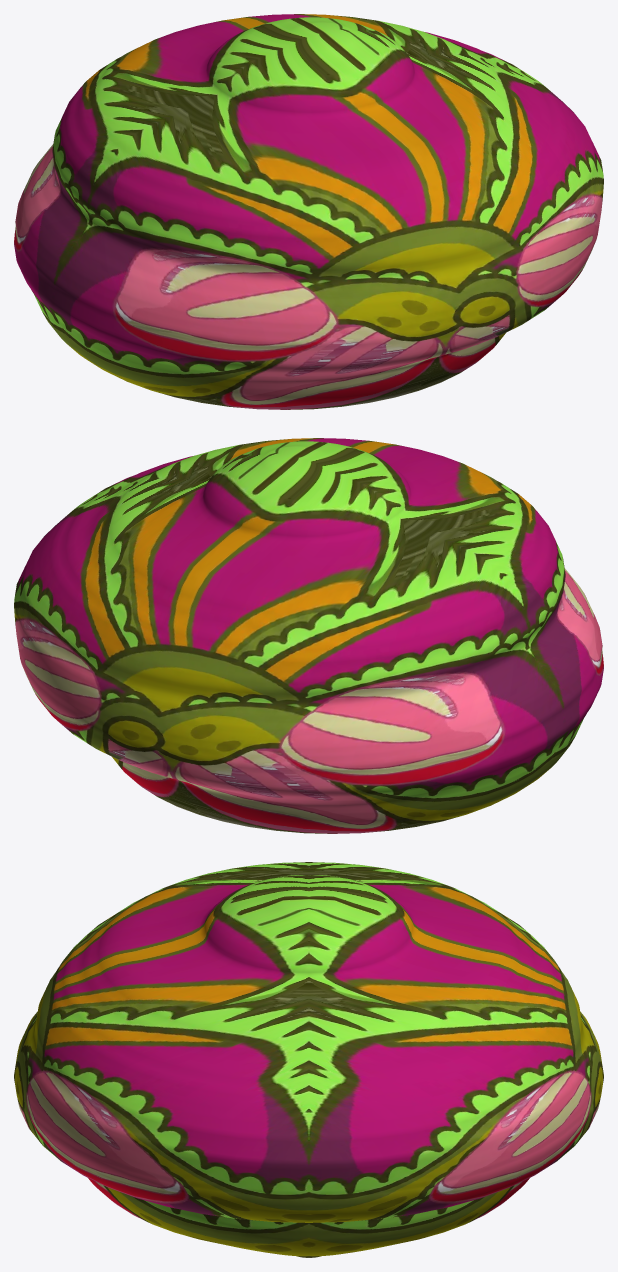
File: toothed_flower.glb
3 renders of one model, top to bottom at view 1: azimuth 30°, elevation 25°; view 2: azimuth 150°, elevation 25°; view 3: azimuth 270°, elevation 25°, orthographic.
Visible parts, largest first — view 1: toothed_flower; view 2: toothed_flower; view 3: toothed_flower.
Boxes of the visible parts, <box> form: toothed_flower: <box>14,14,603,409</box>; toothed_flower: <box>14,438,603,833</box>; toothed_flower: <box>14,862,603,1257</box>.
Size of the model in its own units: 0.9974 by 0.5523 by 0.9825.
Materials: 1 (1 with a texture image).
